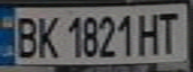1: (115, 11, 139, 57), (63, 12, 84, 59)
2: (97, 11, 118, 58)
8: (78, 11, 100, 58)
B: (9, 12, 42, 60)
H: (136, 9, 163, 56)
K: (33, 11, 60, 60)
T: (154, 7, 187, 55)
